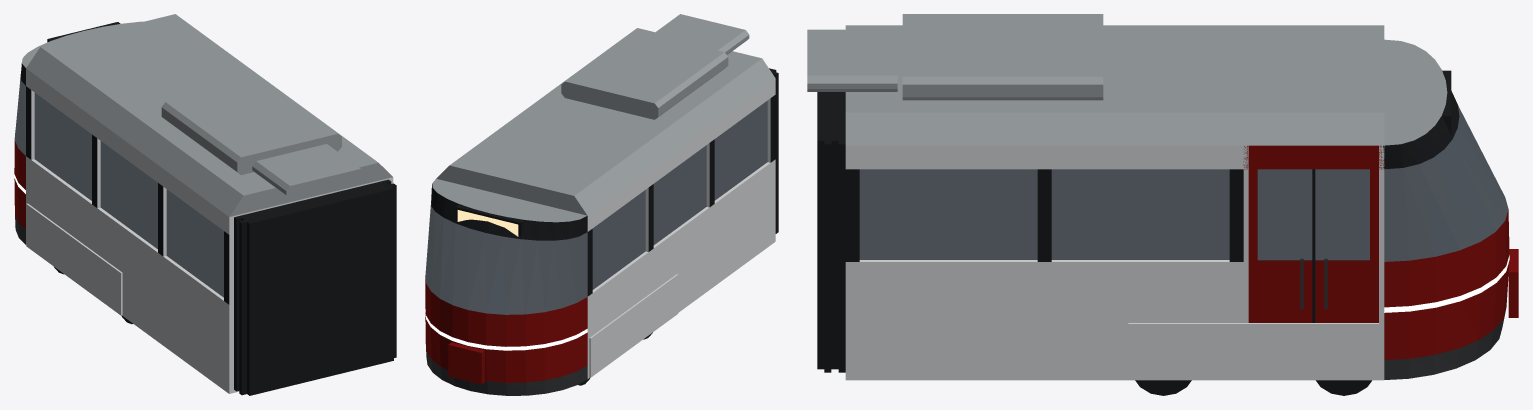
The picture shows the model from 3 angles, left to right: view 1: azimuth 30°, elevation 25°; view 2: azimuth 150°, elevation 25°; view 3: azimuth 270°, elevation 25°; orthographic projection. The views are drawn at different scales.
Parts seen in each view (by area): view 1: 52t-a; view 2: 52t-a; view 3: 52t-a.
Part boxes in pixels (bbox=[...]): 52t-a: bbox=[14, 14, 396, 395]; 52t-a: bbox=[425, 14, 778, 395]; 52t-a: bbox=[807, 14, 1518, 395].
Size of the model in its own units: 2.55 by 3.4 by 7.09.
